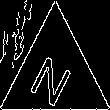N_NE: (29, 41, 81, 105)
